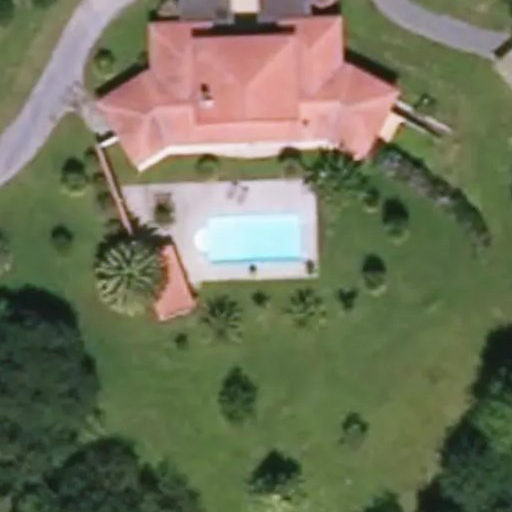pool: (209, 220, 303, 263)
